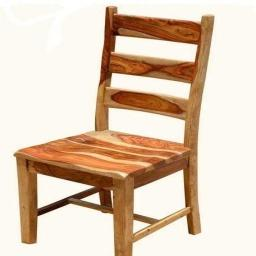Chair: (15, 5, 215, 256)
